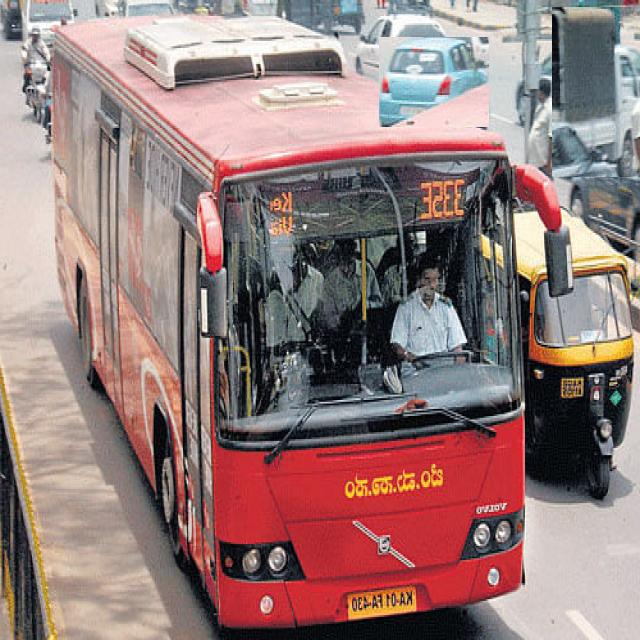autorickshaw: (519, 214, 632, 497)
bus: (52, 17, 570, 626)
car: (379, 38, 489, 127)
truck: (552, 7, 640, 177)
